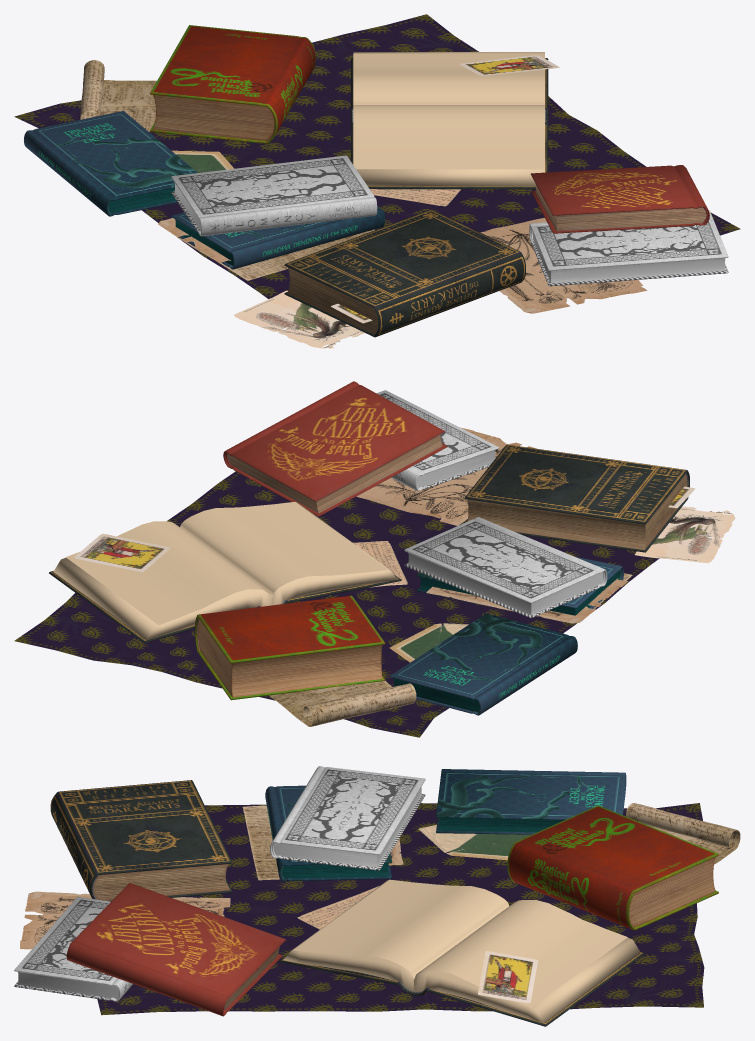
File: BODEGÓN MAGIA.fbx
The picture shows the model from 3 angles, top to bottom: view 1: azimuth 30°, elevation 25°; view 2: azimuth 150°, elevation 25°; view 3: azimuth 270°, elevation 25°; orthographic projection. The views are drawn at different scales.
Visible parts, largest first — view 1: Paper-Curled; view 2: Paper-Curled; view 3: Paper-Curled.
Boxes of the visible parts, x1,y1,x2,y2 form: Paper-Curled: (14, 14, 740, 348); Paper-Curled: (14, 381, 735, 737); Paper-Curled: (14, 766, 740, 1026).
Size of the model in its own units: 758 by 69.73 by 946.
